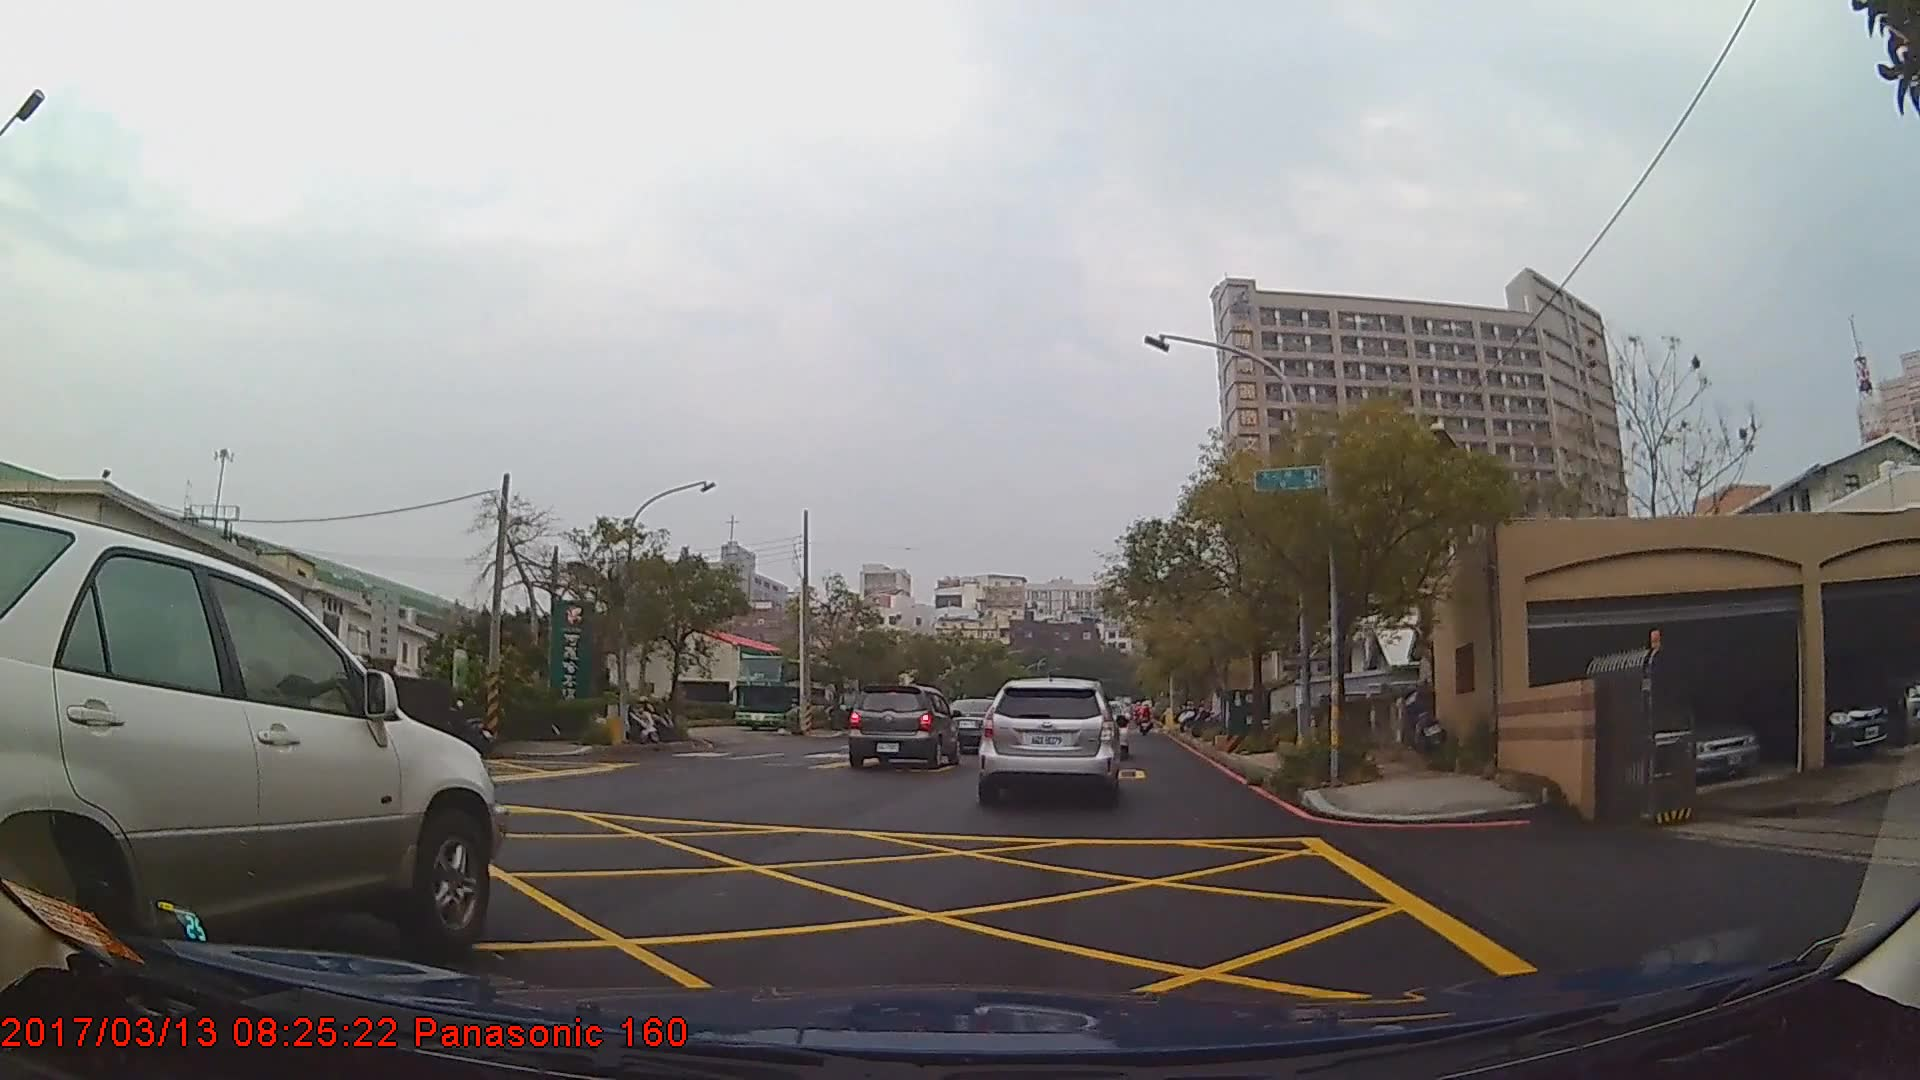vehicle: (0, 505, 506, 994), (976, 675, 1120, 802), (1633, 696, 1763, 781), (847, 682, 961, 767), (733, 653, 844, 731), (942, 696, 1007, 752)
